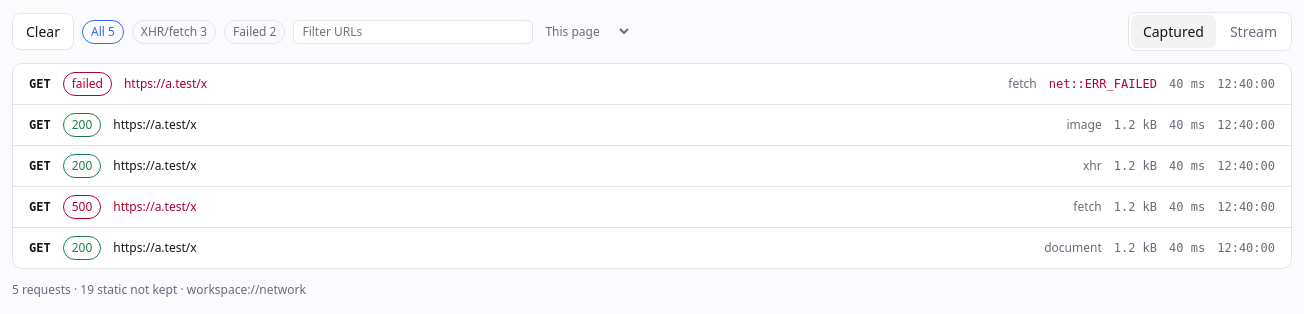
Scenario: Clear says bodies stay fetchable
Click the button "Clear": x=43, y=32 [12,13,74,50]
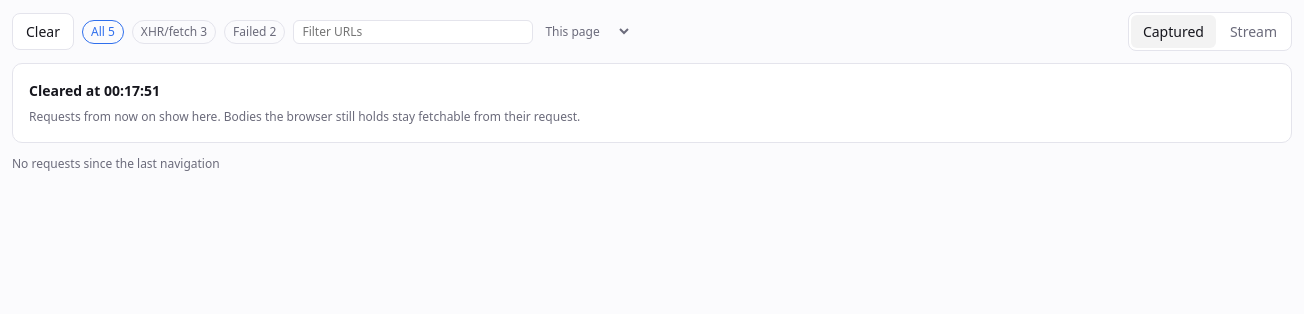
Now the text "Requests from now on show here. Bodies the browser still holds stay fetchable from their request." is shown, box [29,108,580,125]
